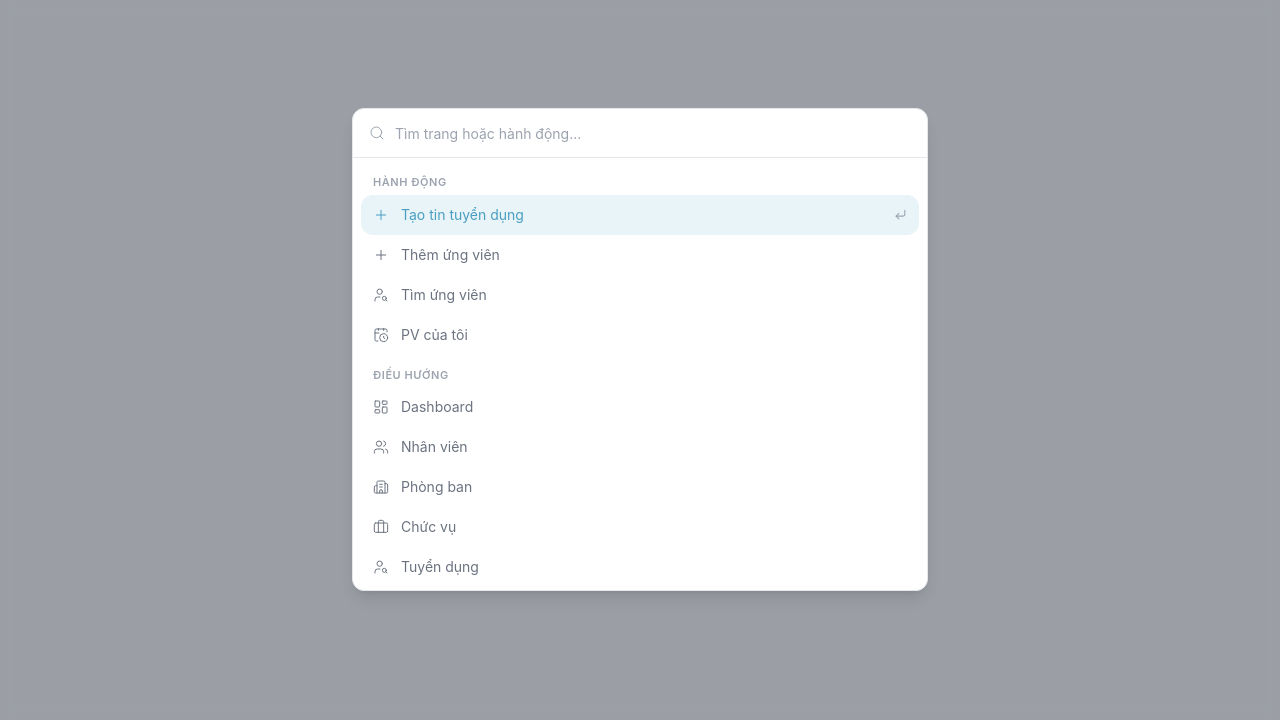
Test case: CommandPalette › filters diacritic- and case-insensitively
This screenshot has width=1280, height=720.
Step 1. Type "tuyen dung" into the field with placeholder "Tìm trang hoặc hành động..." → (653, 133), box [395, 109, 911, 157]
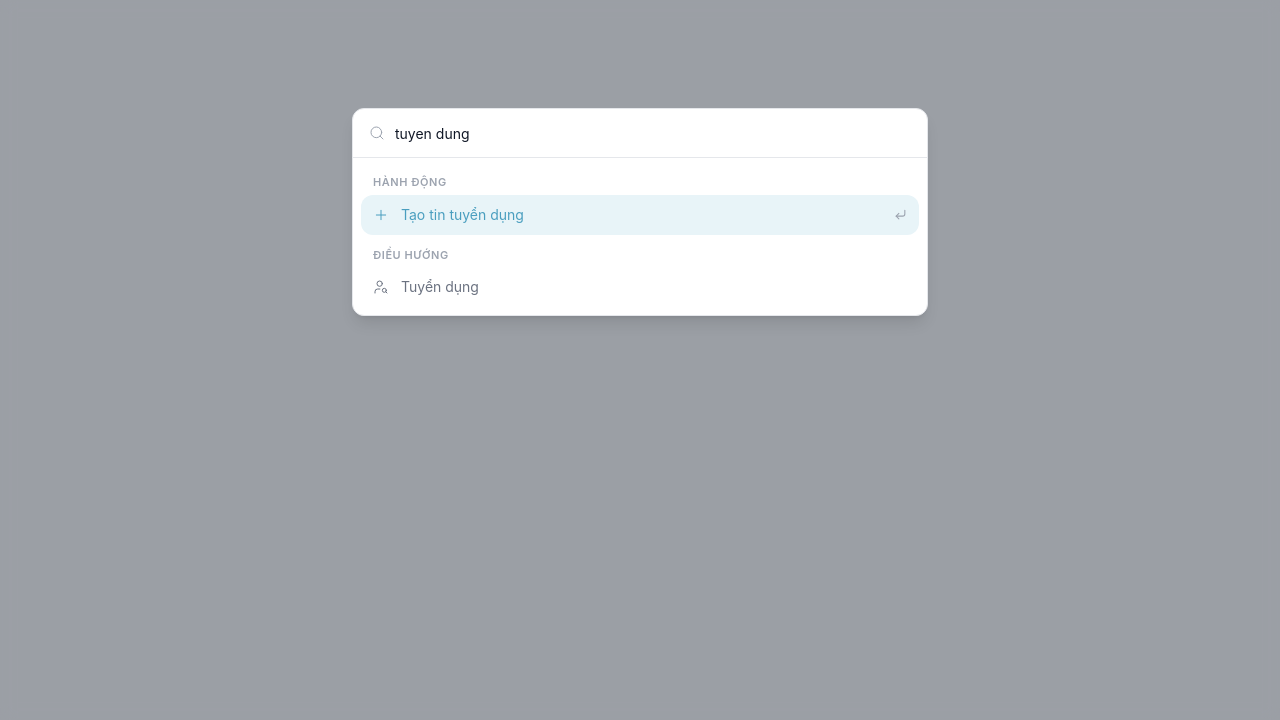
expect the text "Tạo tin tuyển dụng" is shown: met, box [401, 206, 524, 222]
expect the option "Nhân viên" is gone: met
